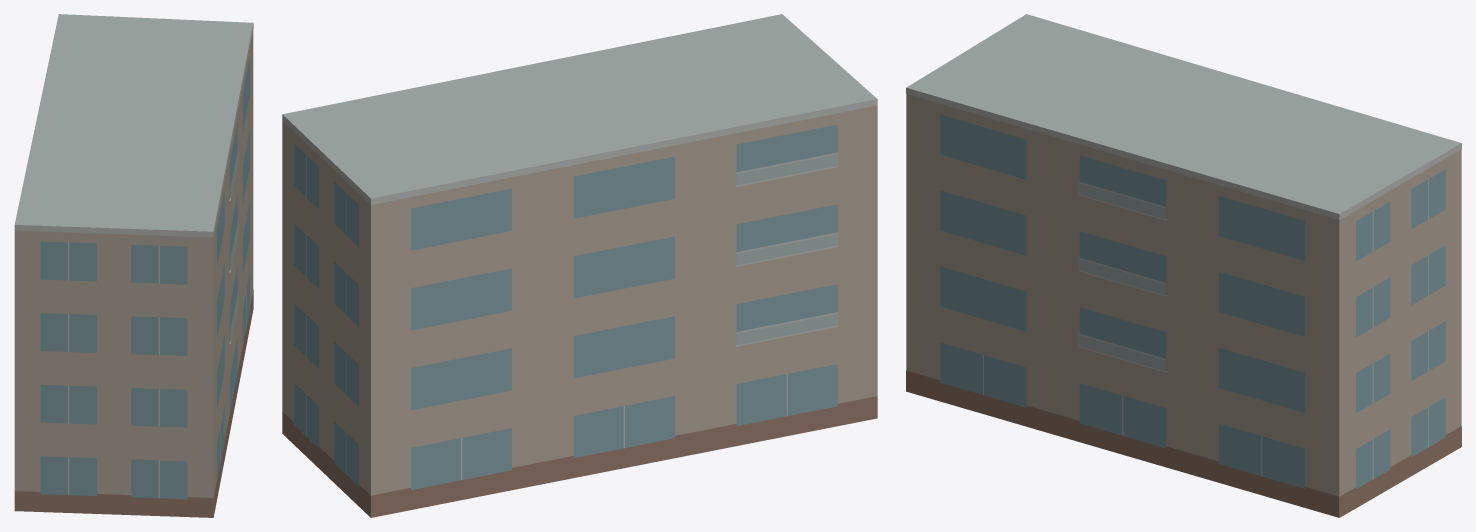
Rendered from survey-upis-32998978.glb.
3 renders of one model, left to right at view 1: azimuth 30°, elevation 25°; view 2: azimuth 150°, elevation 25°; view 3: azimuth 270°, elevation 25°, orthographic. The views are drawn at different scales.
Parts seen in each view (by area): view 1: survey-upis-32998978.tmp; view 2: survey-upis-32998978.tmp; view 3: survey-upis-32998978.tmp.
Part boxes in pixels (x1=…): survey-upis-32998978.tmp: x1=14, y1=14, x2=253, y2=517; survey-upis-32998978.tmp: x1=282, y1=14, x2=877, y2=517; survey-upis-32998978.tmp: x1=906, y1=14, x2=1461, y2=517.
Bounding box in the file's own units: 17.24 × 12.2 × 20.23.
